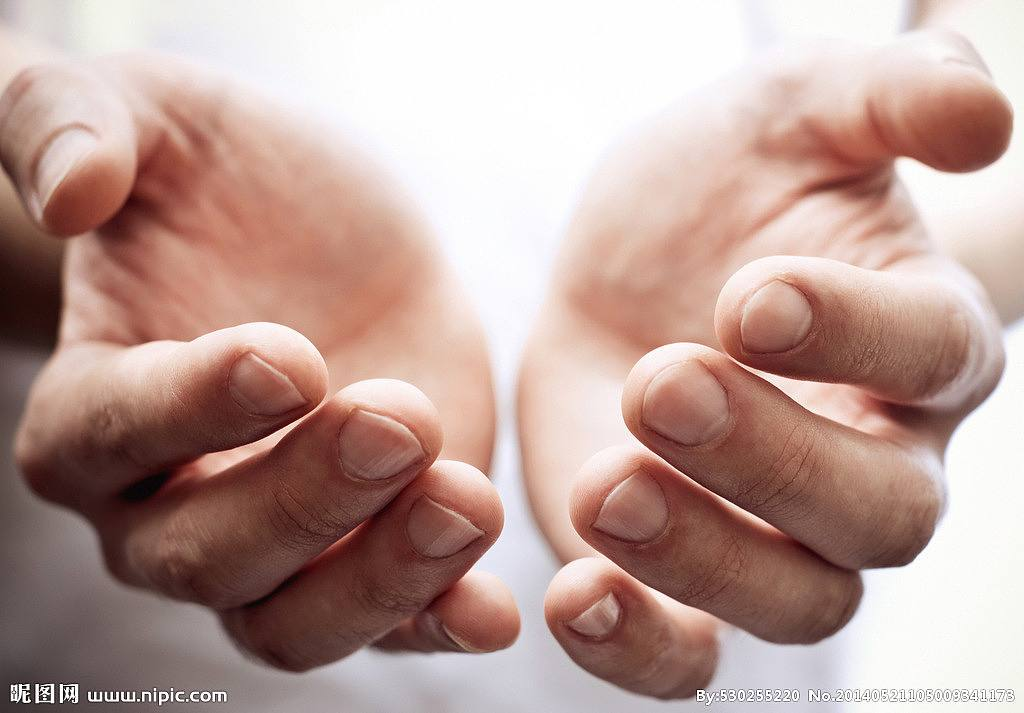no-phone: (508, 14, 1024, 705), (3, 45, 524, 681)
